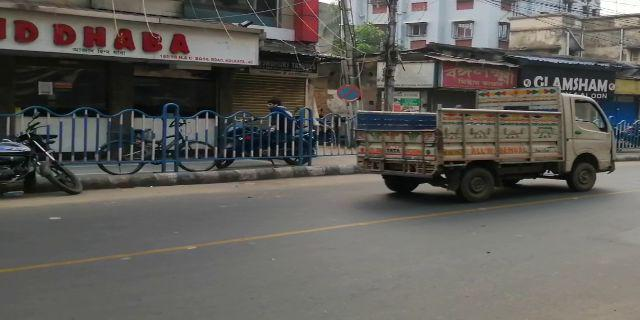Minitruck: (356, 87, 623, 197)
